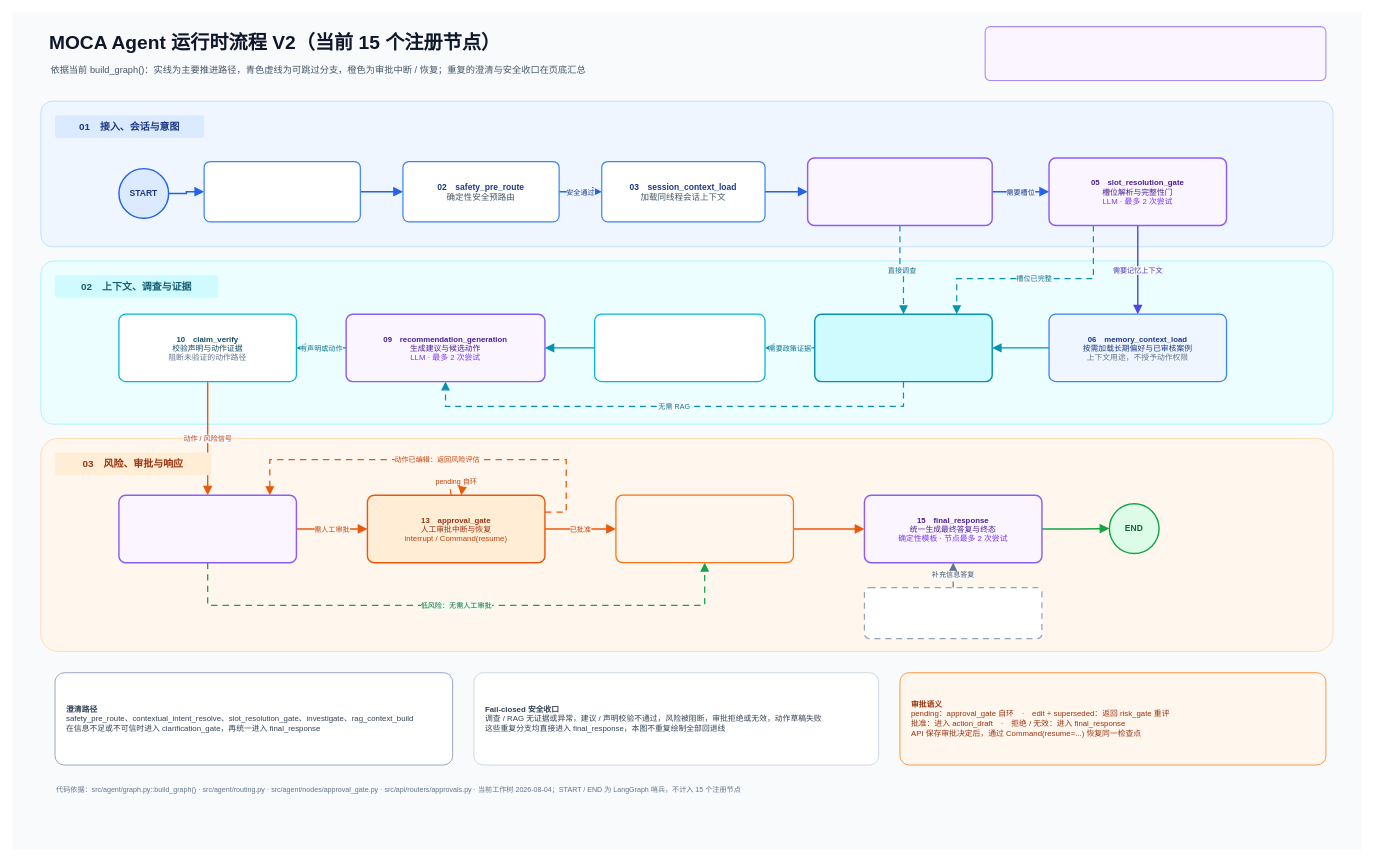
Image size: 1373x862. Some labels were removed from this diagram. The shapes that lost their labels are listed below. From the top down, each one's box as (x1, y1, x2, y2) in pixels, then its label:
(984, 26, 1326, 81): 运行时保障 AsyncPostgresSaver 检查点 · AgentState 紫色描边节点：RetryPolicy(max_attempts=2)
(203, 161, 361, 222): 01 receive_request 接收并规范化请求
(807, 157, 993, 226): 04 contextual_intent_resolve 意图 · 操作 · 候选槽位 LLM · 最多 2 次尝试
(594, 313, 765, 382): 08 rag_context_build 按需构建并验证证据上下文 verified / partial / fail-closed
(814, 313, 993, 382): 07 investigate 有界 Tool 调查循环 业务事实 · 知识 · 案例记忆
(118, 494, 297, 563): 11 risk_gate 风险与审批策略决策 LLM · 最多 2 次尝试
(615, 494, 794, 563): 14 action_draft 经 ToolPlatform 持久化动作草稿 不直接执行外部副作用
(864, 587, 1042, 639): 12 clarification_gate 收敛需要补充的信息 入口来源见页底说明
